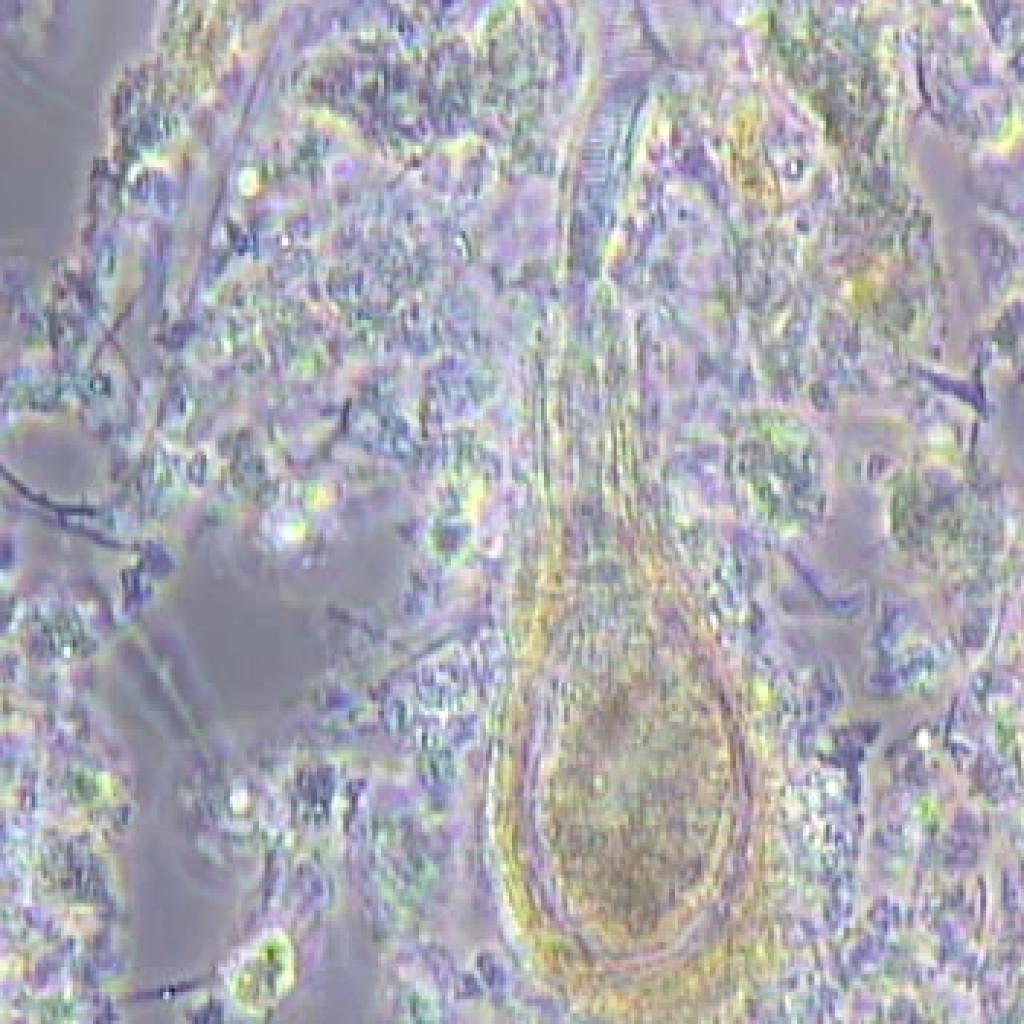Chaetopira: (500, 105, 771, 1008)
